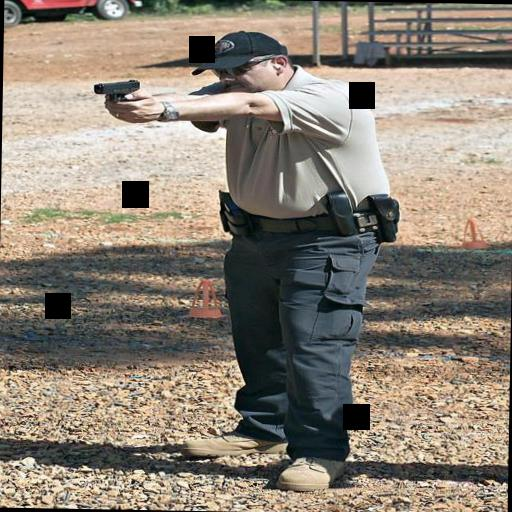Handgun: (84, 75, 146, 109)
